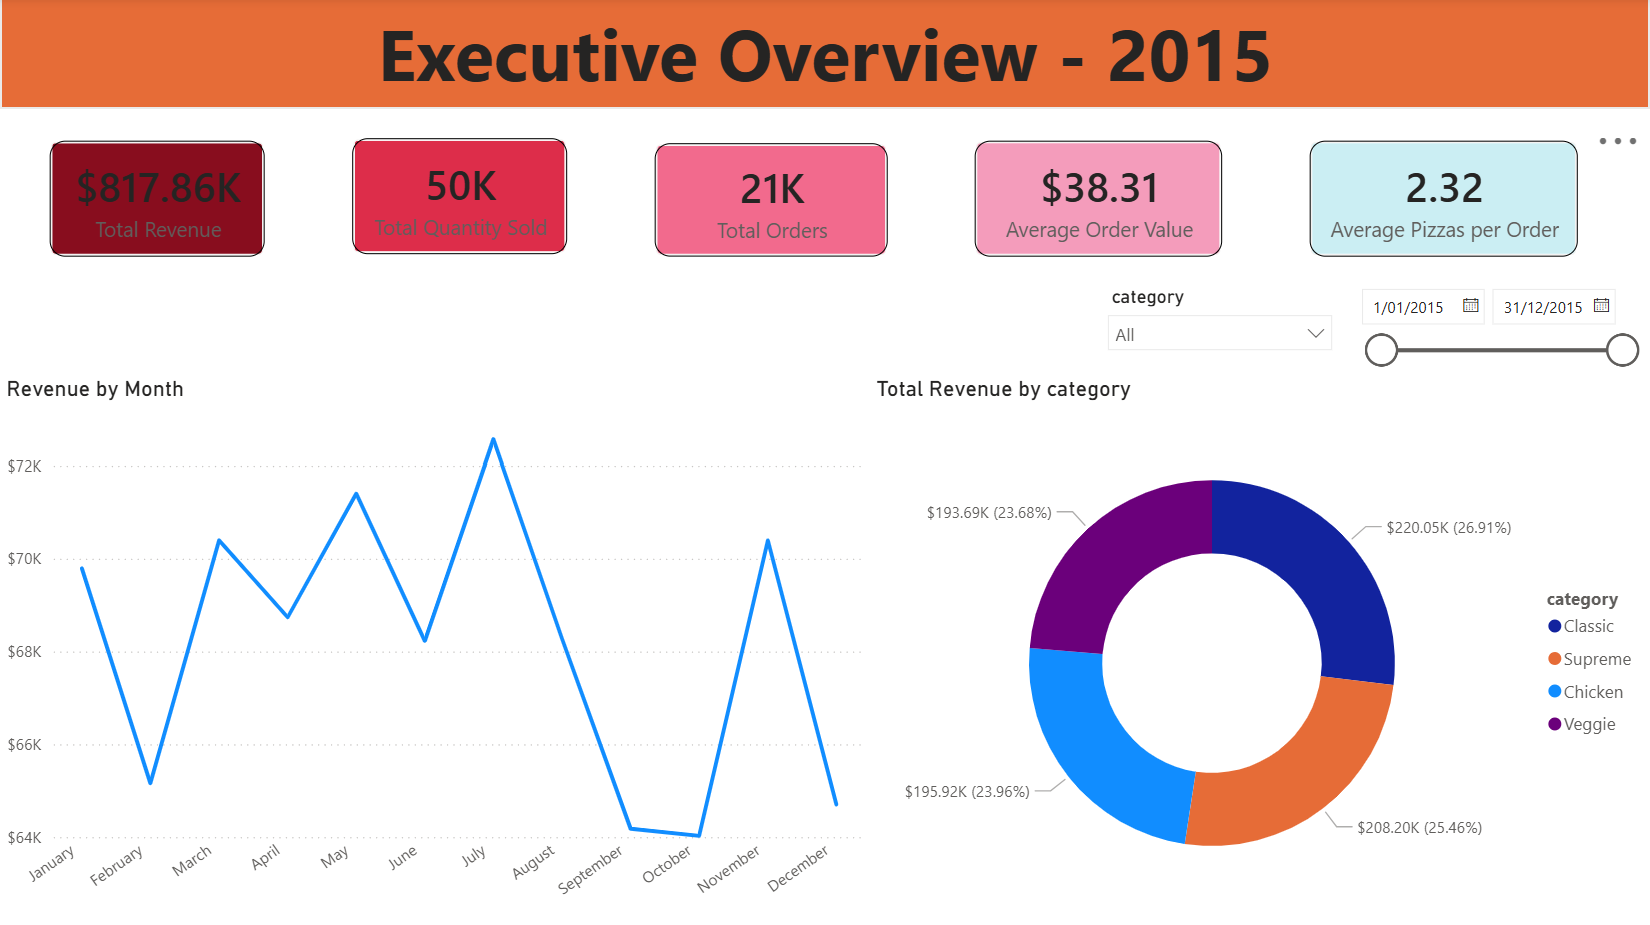

What the dashboard file says about the page in this screenshot:
{"tool":"powerbi","page":{"name":"Overview","canvas":[1280,720],"ordinal":0},"visuals":[{"type":"cardVisual","fields":{"Data":["Measure.Total Revenue"]},"box":[21.3,95,201.7,124.1],"z":0},{"type":"cardVisual","fields":{"Data":["Measure.Total Quantity Sold"]},"box":[256,93.1,201.7,124.1],"z":1000},{"type":"cardVisual","fields":{"Data":["Measure.Average Order Value"]},"box":[738.9,95,226.9,124.1],"z":2000},{"type":"cardVisual","fields":{"Data":["Measure.Average Pizzas per Order"]},"box":[998.8,95,242.4,124.1],"z":3000},{"type":"textbox","box":[0,0,1280.7,87.1],"z":4000},{"type":"slicer","fields":{"Values":["dim_pizza.category"]},"box":[849.5,219.2,193.9,64],"z":6000},{"type":"slicer","fields":{"Values":["dim_date.date"]},"box":[1043.4,217.2,236.6,77.6],"z":7000},{"type":"donutChart","fields":{"Category":["dim_pizza.category"],"Y":["Measure.Total Revenue"]},"box":[674.9,294.8,605.1,424.7],"z":8000},{"type":"cardVisual","fields":{"Data":["Measure.Total Orders"]},"box":[490.7,97,215.3,122.2],"z":12000},{"type":"lineChart","title":"Revenue by Month","fields":{"Category":["dim_date.Month Name"],"Y":["Measure.Monthly Revenue"]},"box":[0,294.8,674.9,424.7],"z":13000}]}

Visuals, with their boxes in screenshot pixels (x1, y1, x2, y2), scaled from the page's 1280x720 canvas onto the 1650x925 screenshot:
cardVisual - Measure.Total Revenue: bbox=[27, 122, 287, 281]
cardVisual - Measure.Total Quantity Sold: bbox=[330, 120, 590, 279]
cardVisual - Measure.Average Order Value: bbox=[952, 122, 1245, 281]
cardVisual - Measure.Average Pizzas per Order: bbox=[1288, 122, 1600, 281]
textbox: bbox=[0, 0, 1649, 112]
slicer - dim_pizza.category: bbox=[1095, 282, 1345, 364]
slicer - dim_date.date: bbox=[1345, 279, 1649, 379]
donutChart - dim_pizza.category x Measure.Total Revenue: bbox=[870, 379, 1649, 924]
cardVisual - Measure.Total Orders: bbox=[633, 125, 910, 282]
"Revenue by Month" lineChart: bbox=[0, 379, 870, 924]
